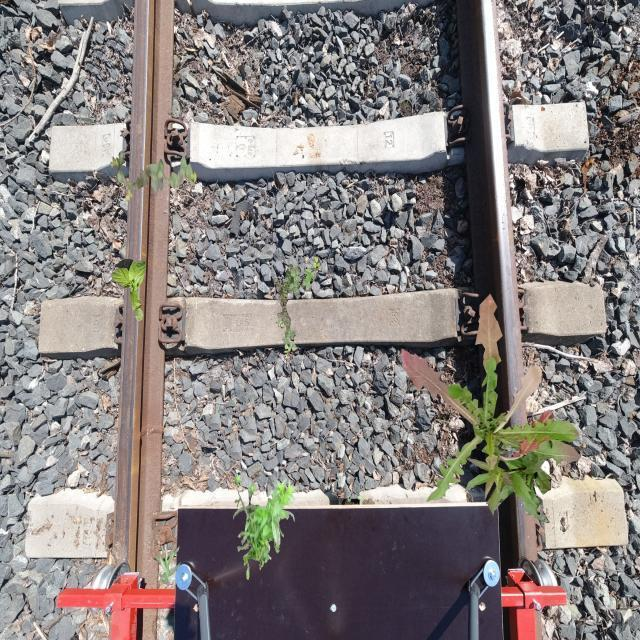Plant: (401, 293, 581, 502), (463, 426, 552, 524), (233, 472, 298, 580), (274, 256, 322, 359), (111, 150, 198, 202), (111, 259, 146, 322), (155, 543, 182, 585)
